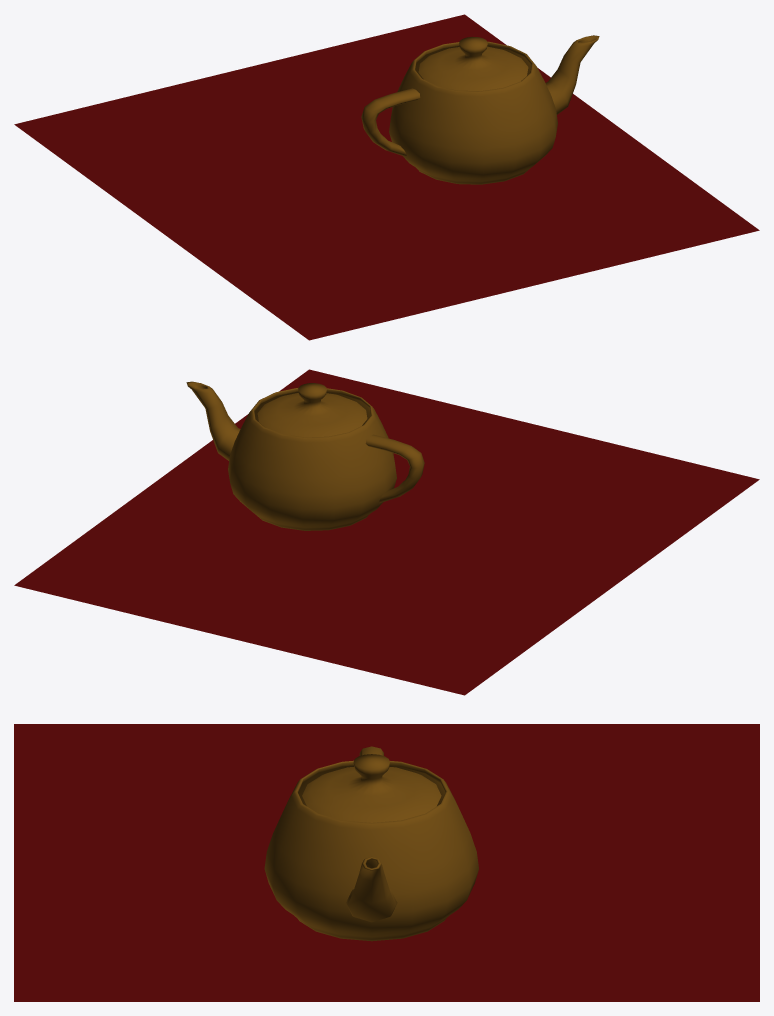
File: multiOmni.DAE
3 views of the same model, one above another, from view 1: azimuth 30°, elevation 25°; view 2: azimuth 150°, elevation 25°; view 3: azimuth 270°, elevation 25° (orthographic). The views are drawn at different scales.
Visible parts, largest first — view 1: Plane001, Teapot001; view 2: Plane001, Teapot001; view 3: Plane001, Teapot001.
Boxes of the visible parts, x1,y1,x2,y2 form: Plane001: (14,14,759,340); Teapot001: (361,35,599,184); Plane001: (14,369,759,695); Teapot001: (186,381,424,530); Plane001: (14,724,759,1001); Teapot001: (264,746,478,941).
Size of the model in its own units: 73.59 by 18.91 by 83.47.
